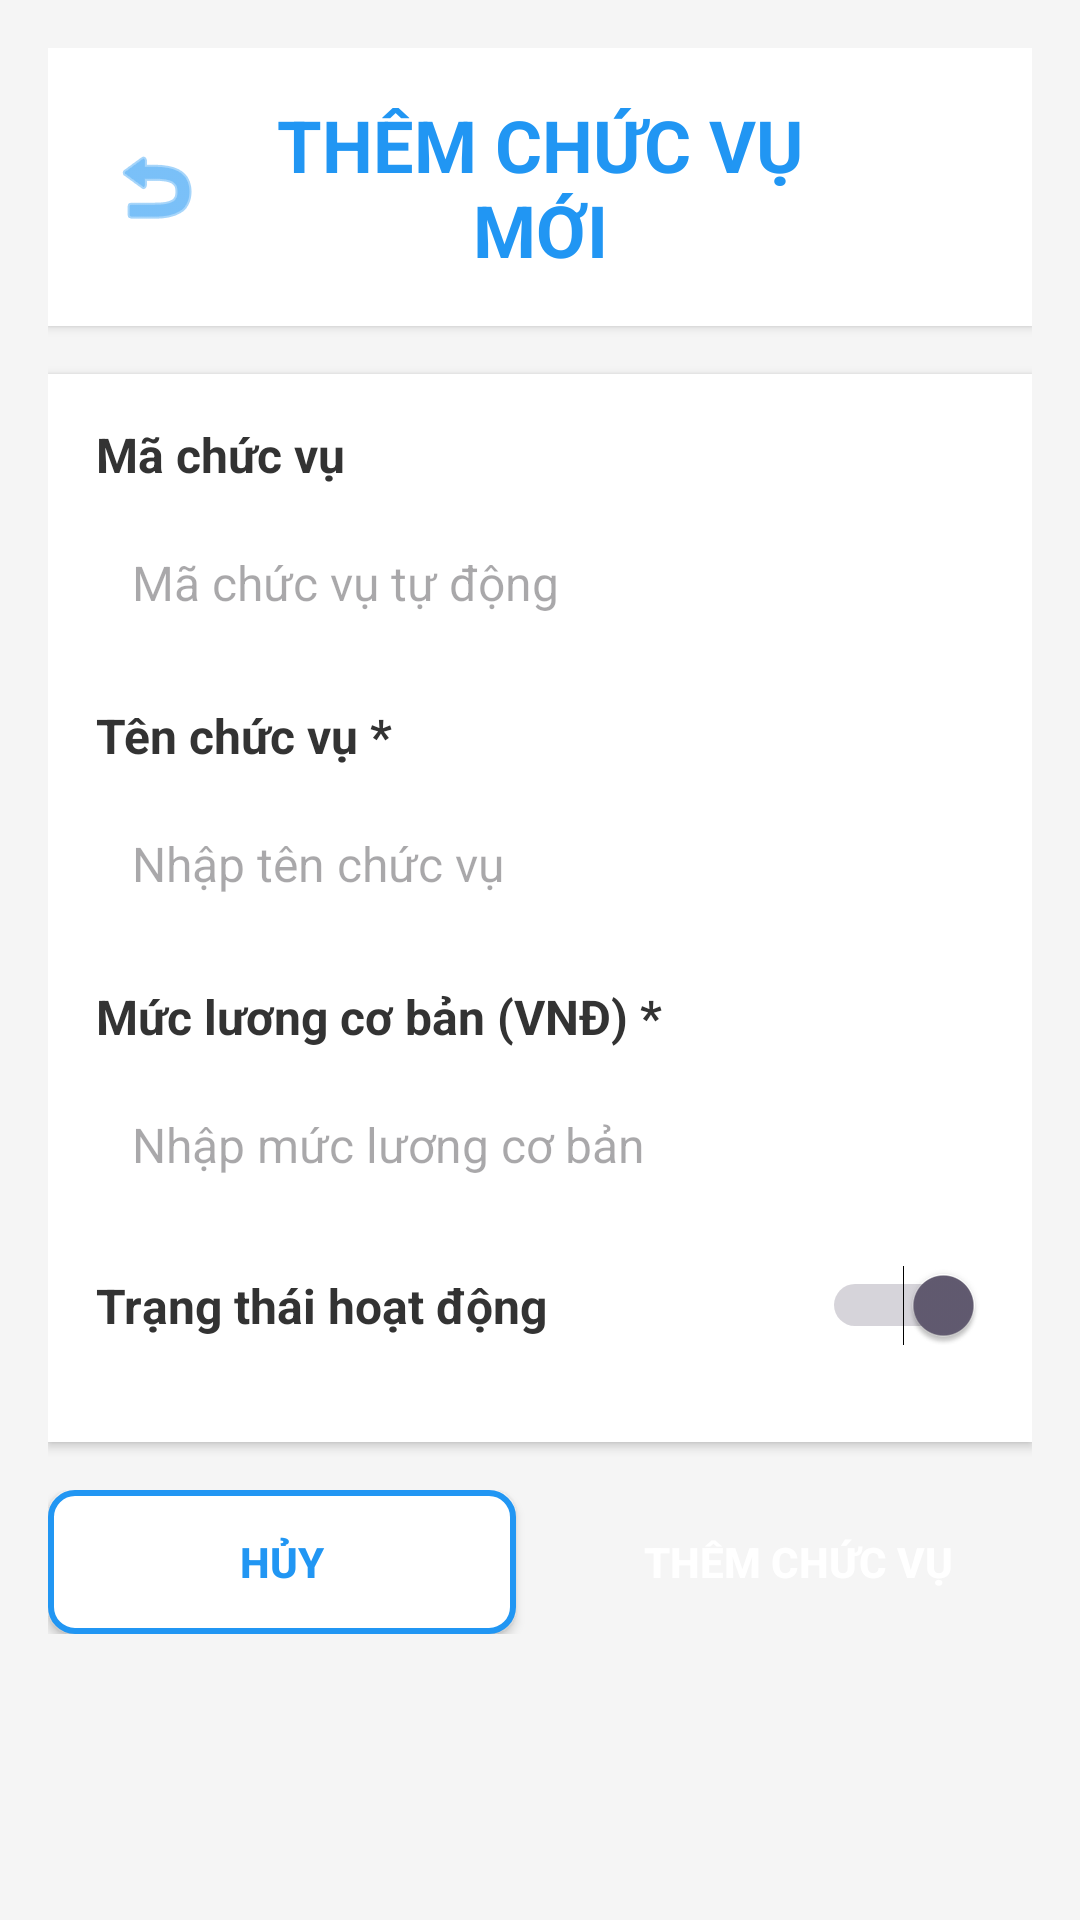

Icons on this 1080px×1920px Android screen, each with its box as (x1, y1, x2, y2):
revert: (123, 156, 192, 219)
